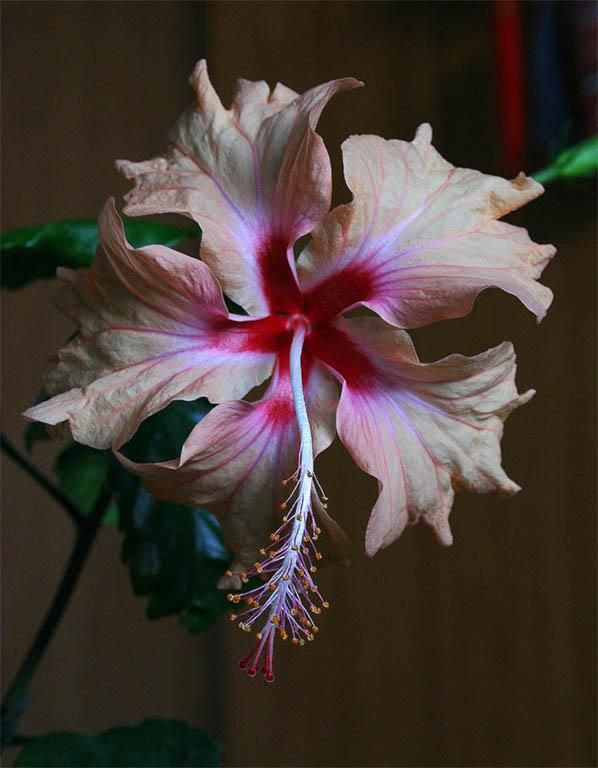Hibiscus: (18, 55, 558, 682)
